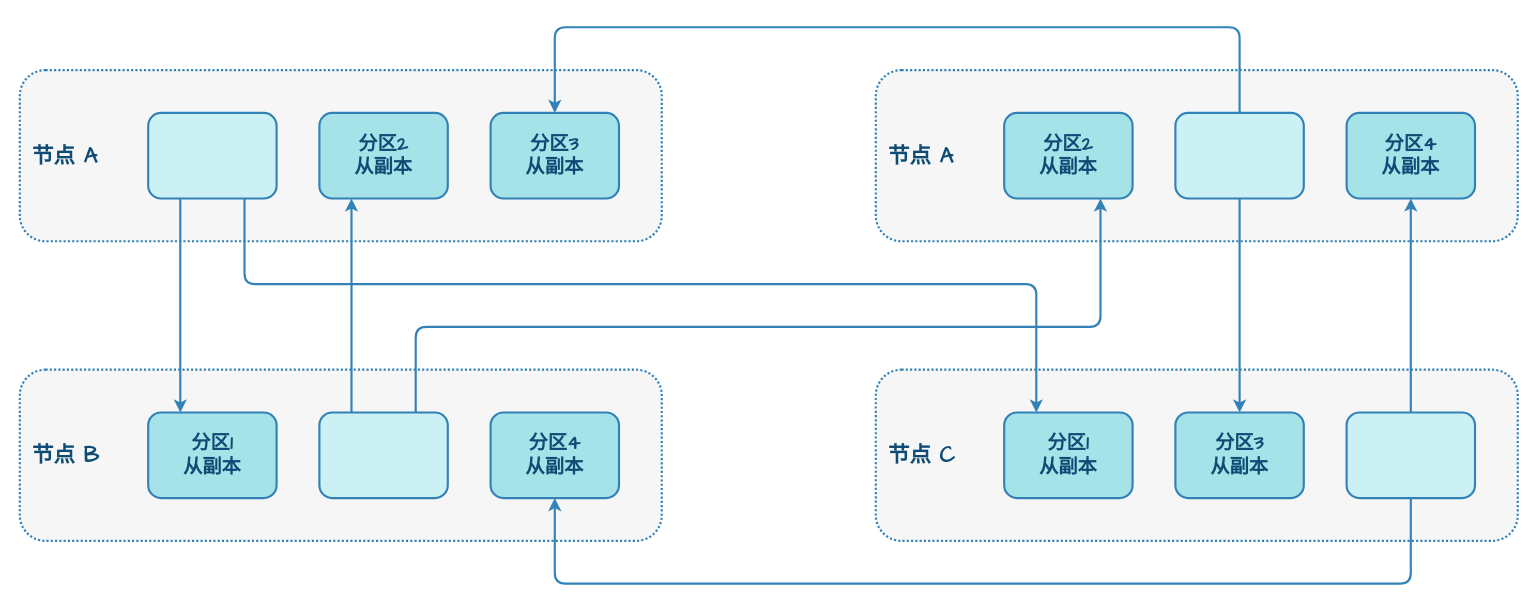
Image size: 1537x611. Some labels were removed from this diagram. Each missing label, with the centre of its shape:
"分区1 主副本" belongs at [212,155].
"分区2 主副本" belongs at [383,455].
"分区3 主副本" belongs at [1239,155].
"分区4 主副本" belongs at [1410,455].
